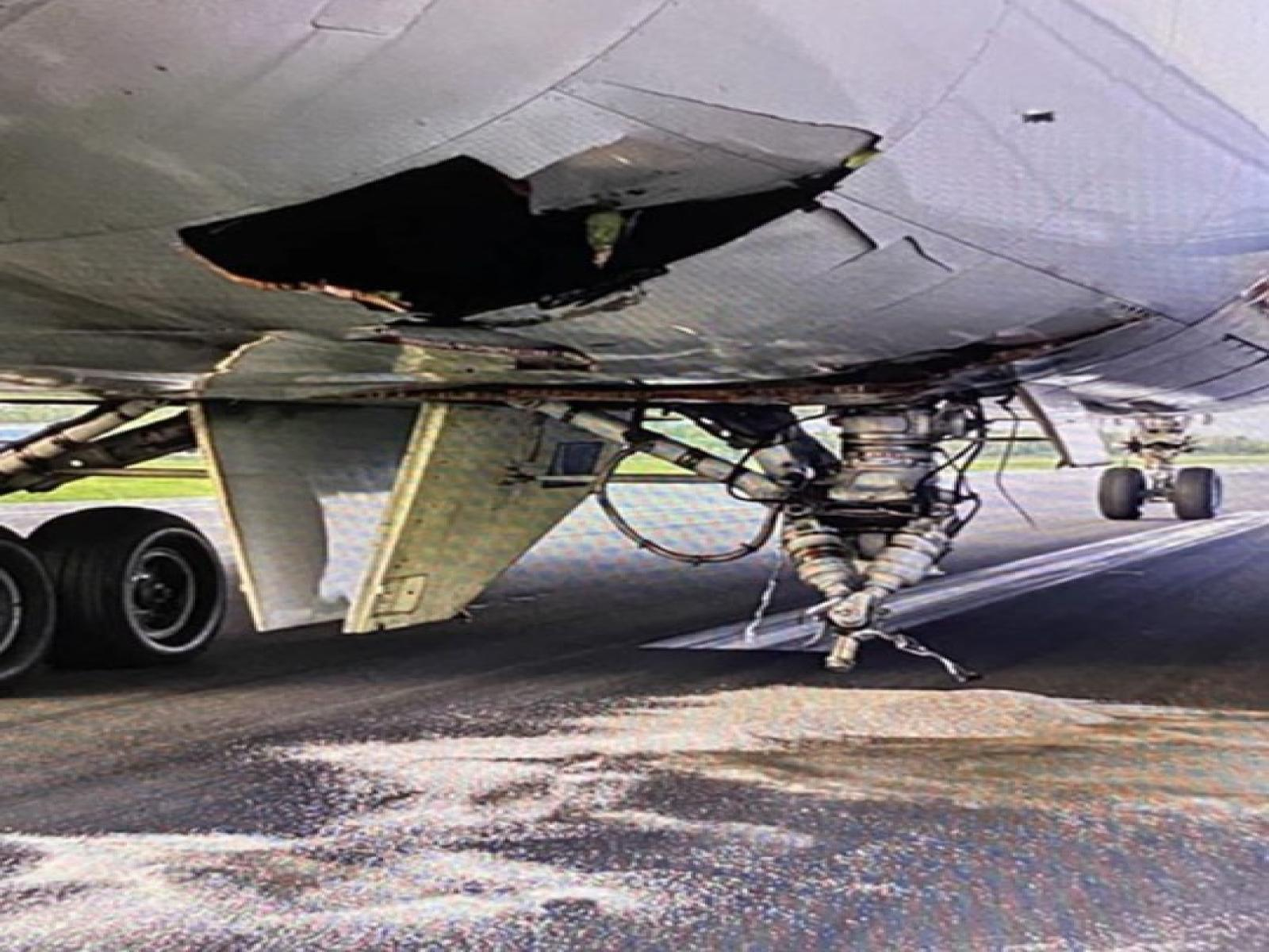Fuselage_damage: (181, 91, 877, 316), (179, 119, 877, 328)
